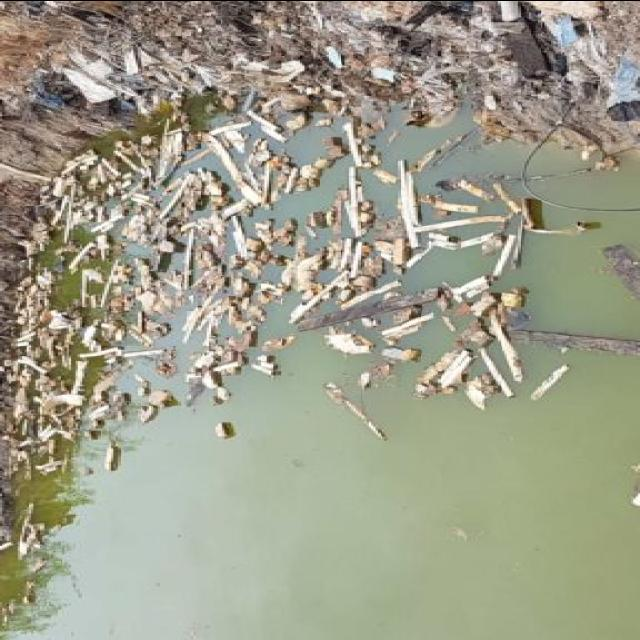-: (66, 212, 640, 639)
